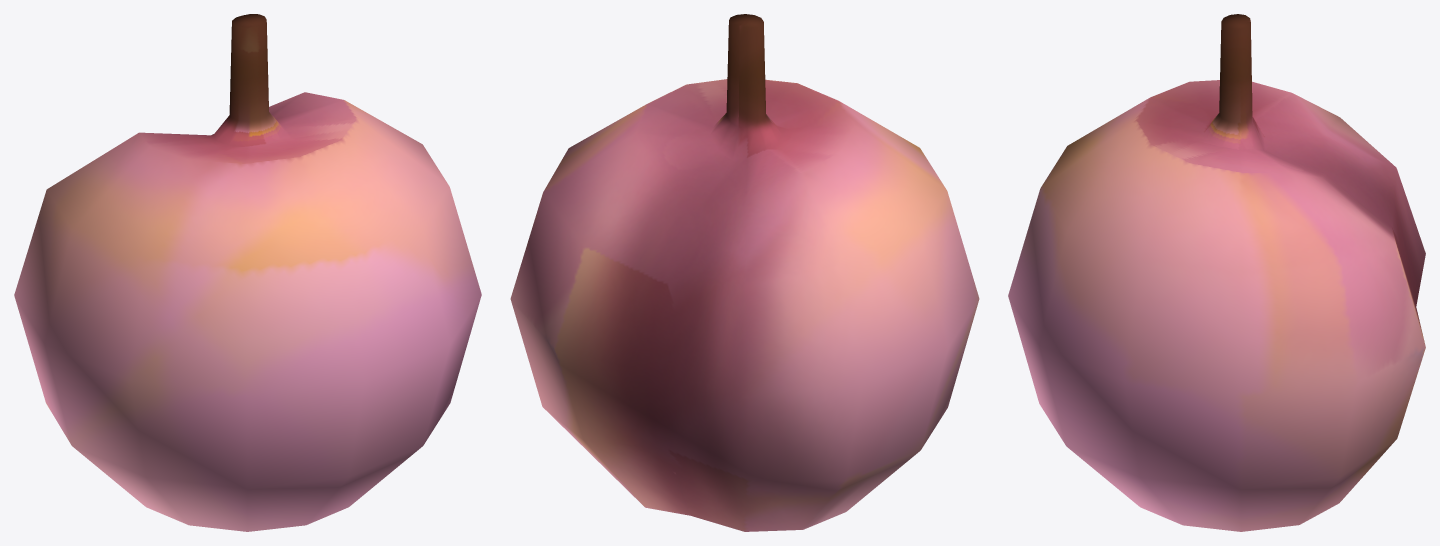
The model's file is fruta_pessego.glb.
3 renders of one model, left to right at view 1: azimuth 30°, elevation 25°; view 2: azimuth 150°, elevation 25°; view 3: azimuth 270°, elevation 25°, orthographic.
Parts seen in each view (by area): view 1: PEACH_19; view 2: PEACH_19; view 3: PEACH_19.
Boxes of the visible parts, x1,y1,x2,y2 form: PEACH_19: (14, 14, 481, 531); PEACH_19: (510, 14, 979, 531); PEACH_19: (1008, 14, 1425, 531).
Size of the model in its own units: 0.4279 by 0.4912 by 0.3835.
Materials: 1 (1 with a texture image).
